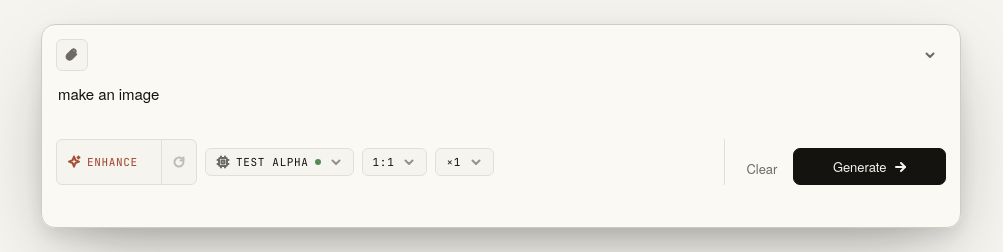
Test: Composer local model chip › chip carries the variant token and a health dot; the menu row names the host
Expected: the button "Model" does not show "ComfyUI"
Click the button with aria-label "Model".
click(279, 162)  # box [205,148,354,176]
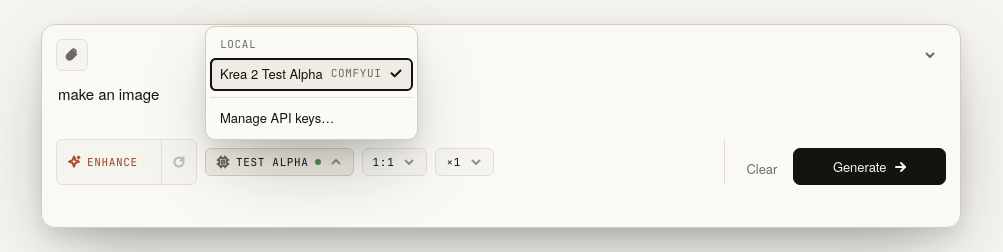
Now the option "Krea 2 Test Alpha ComfyUI" is shown, box [210,58,414,91]
